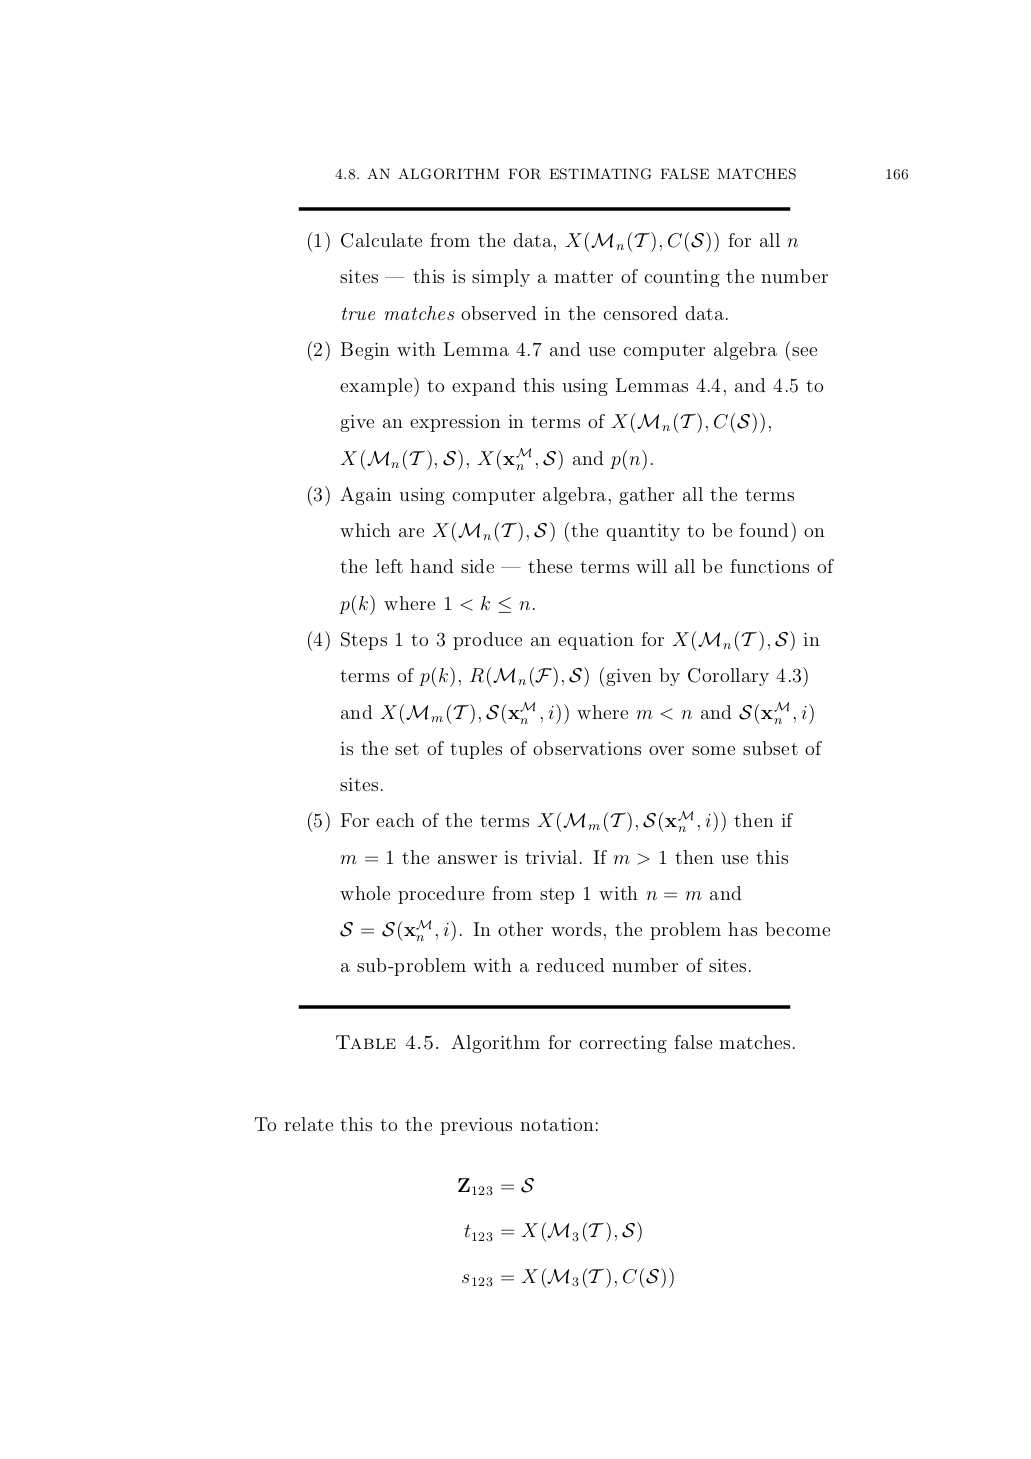figure: (298, 205, 790, 211), (298, 1004, 790, 1009)
formula: (462, 1267, 673, 1288), (464, 1221, 640, 1241), (457, 1177, 533, 1196)
